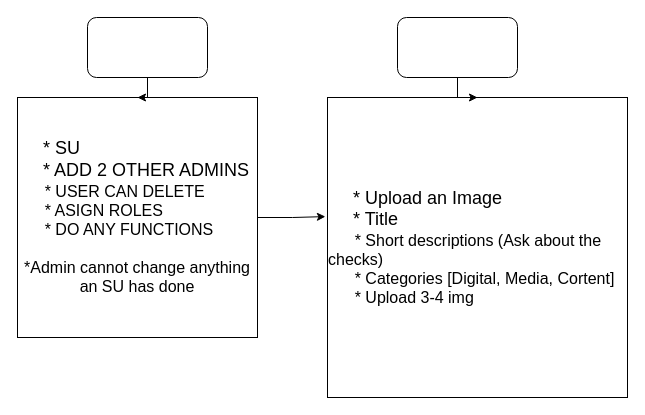
Image size: 645x415. Some labels were removed from this diagram. The box of each missing label's shape, as (x1, y1, x2, y2) in pixels:
Admin Portal: (86, 16, 208, 78)
Portfolio: (396, 16, 518, 78)
